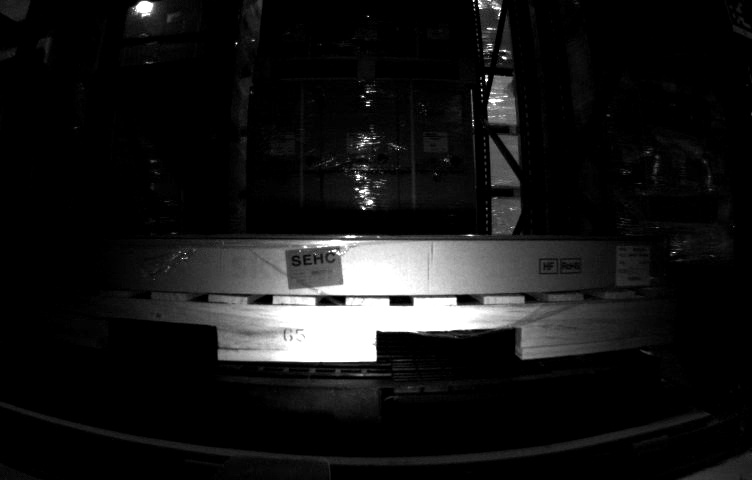True Barcode: (614, 243, 652, 284)
